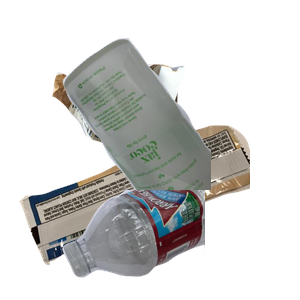cardboard: (50, 62, 228, 226)
glass: (60, 36, 300, 216)
plastic: (60, 190, 300, 280)
trash: (17, 123, 257, 300)
